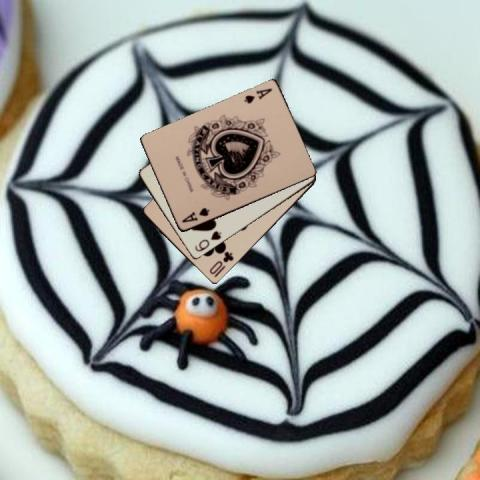10c: (207, 248, 235, 278)
6s: (191, 228, 223, 253)
As: (241, 85, 273, 106), (178, 205, 210, 224)
